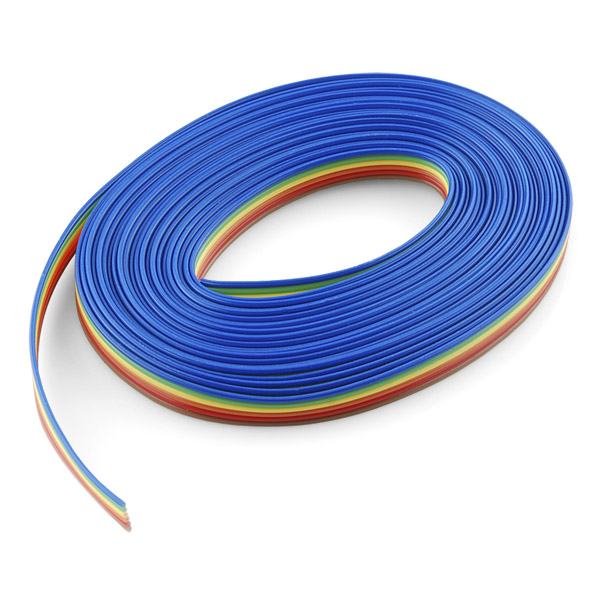Nonrec_Tangler: (17, 49, 540, 527)
